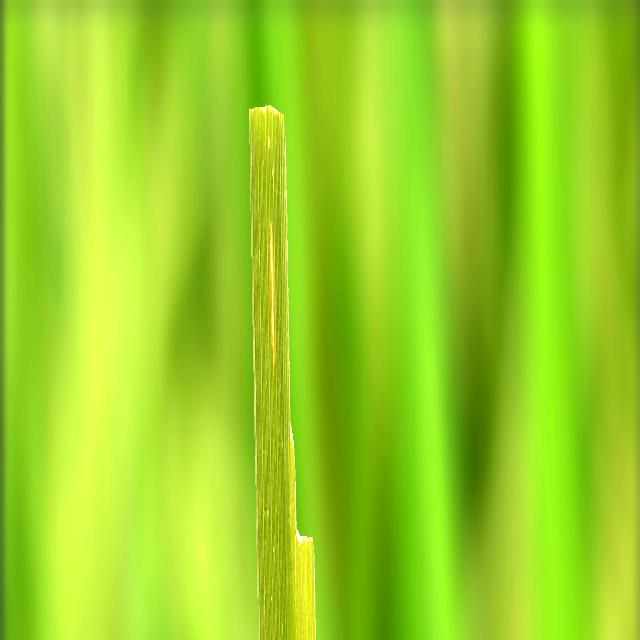BLS: (269, 223, 275, 357)
